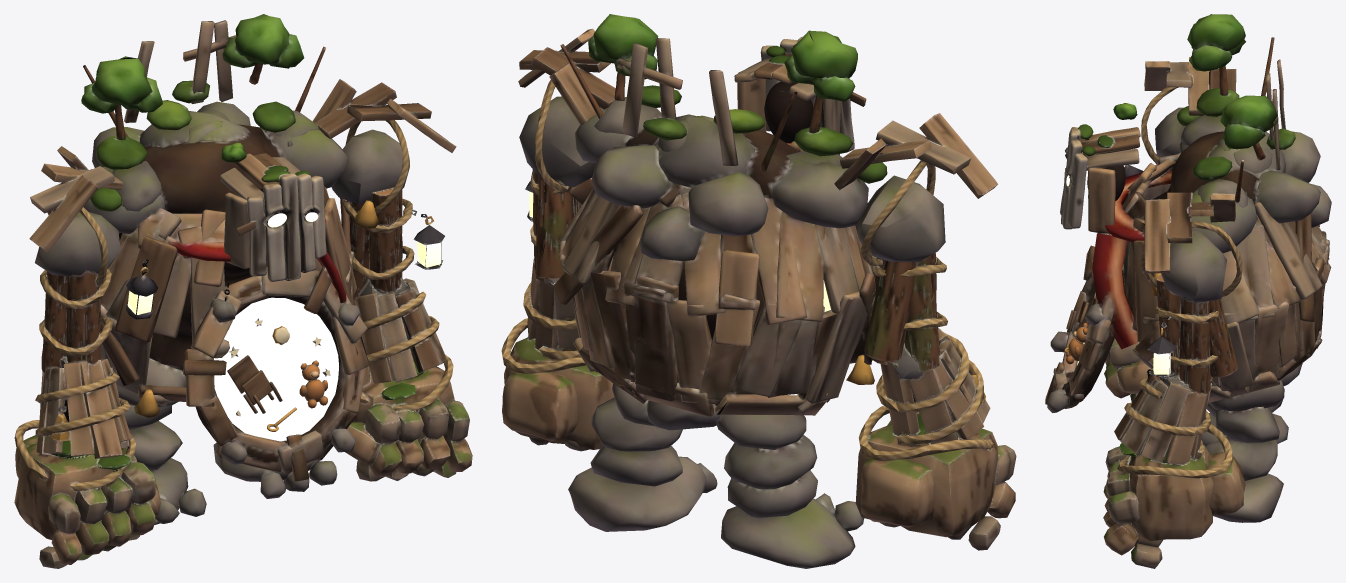
File: moon_eater.glb
3 views of the same model, side by side, from view 1: azimuth 30°, elevation 25°; view 2: azimuth 150°, elevation 25°; view 3: azimuth 270°, elevation 25° (orthographic). The views are drawn at different scales.
Visible parts, largest first — view 1: Body, ArmL, ArmR, Head, Body_Window, Debris, Hoard; view 2: Body, ArmL, Debris, ArmR, Head; view 3: Body, ArmR, Debris, Head, ArmL, Hoard, ArmR_Glow.
Part boxes in pixels (x1,y1,x2,y2): Body: [81, 14, 379, 524]; ArmL: [14, 146, 160, 568]; ArmR: [312, 79, 472, 481]; Head: [220, 142, 326, 281]; Body_Window: [214, 297, 338, 441]; Debris: [15, 109, 357, 477]; Hoard: [227, 318, 330, 431]; Body: [553, 14, 887, 568]; ArmL: [834, 113, 1016, 550]; Debris: [502, 97, 934, 527]; ArmR: [501, 28, 615, 449]; Head: [734, 36, 866, 155]; Body: [1045, 14, 1331, 522]; ArmR: [1103, 192, 1242, 568]; Debris: [1122, 115, 1322, 515]; Head: [1060, 103, 1140, 233]; ArmL: [1104, 57, 1236, 402]; Hoard: [1064, 292, 1097, 364]; ArmR_Glow: [1153, 353, 1170, 374].
Size of the model in its own units: 5.16 by 5.39 by 3.3.
11 materials, 6 textured.
